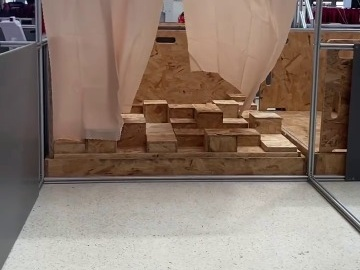curtain: (54, 0, 299, 151)
